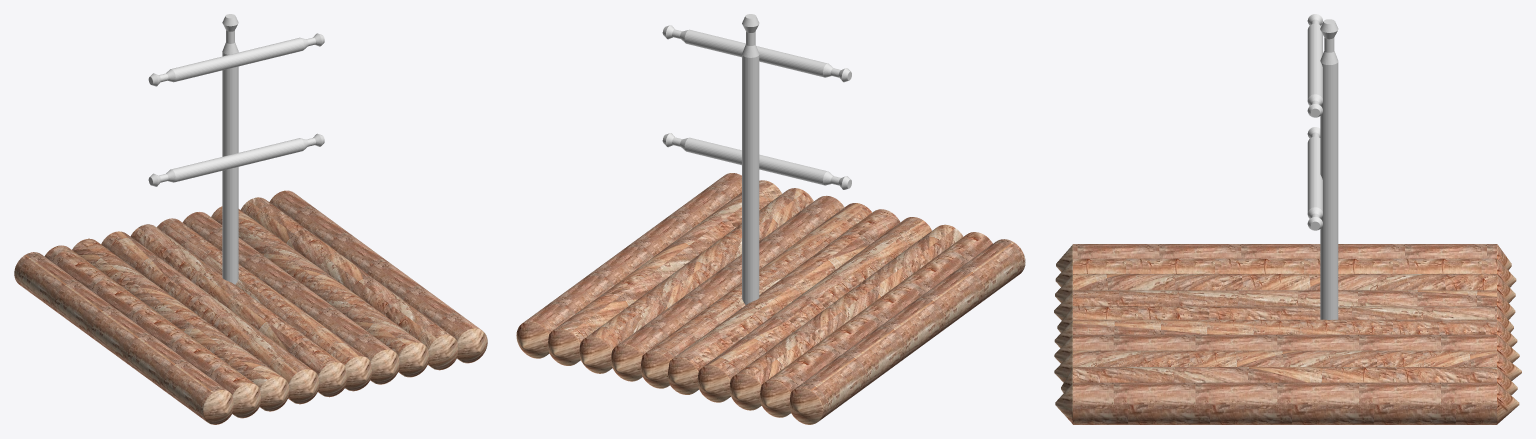
File: floatFinal.fbx
The picture shows the model from 3 angles, left to right: view 1: azimuth 30°, elevation 25°; view 2: azimuth 150°, elevation 25°; view 3: azimuth 270°, elevation 25°; orthographic projection. The views are drawn at different scales.
Parts seen in each view (by area): view 1: Cylinder.008, Cylinder.004, Cylinder.005, Cylinder.003, Cylinder.010, Cylinder.006, Cylinder.001, Cylinder.007, Cylinder, Cylinder.002, Cylinder.009, Cylinder.013 (+1 smaller); view 2: Cylinder.008, Cylinder.004, Cylinder.003, Cylinder.010, Cylinder.006, Cylinder.005, Cylinder.007, Cylinder.001, Cylinder, Cylinder.002, Cylinder.009, Cylinder.013 (+1 smaller); view 3: Cylinder.010, Cylinder.001, Cylinder, Cylinder.004, Cylinder.006, Cylinder.002, Cylinder.005, Cylinder.007, Cylinder.008, Cylinder.003, Cylinder.009, Cylinder.013 (+1 smaller).
Boxes of the visible parts, x1,y1,x2,y2 form: Cylinder.008: (14, 252, 233, 424); Cylinder.004: (101, 231, 318, 404); Cylinder.005: (241, 197, 457, 370); Cylinder.003: (130, 224, 346, 397); Cylinder.010: (269, 190, 487, 363); Cylinder.006: (72, 238, 289, 411); Cylinder.001: (211, 206, 428, 377); Cylinder.007: (44, 245, 260, 418); Cylinder: (182, 212, 399, 384); Cylinder.002: (157, 218, 371, 391); Cylinder.009: (222, 14, 238, 284); Cylinder.013: (148, 33, 324, 86); Cylinder.008: (789, 239, 1025, 424); Cylinder.004: (697, 217, 931, 402); Cylinder.003: (668, 209, 900, 394); Cylinder.010: (516, 173, 741, 358); Cylinder.006: (729, 224, 963, 410); Cylinder.005: (548, 180, 781, 365); Cylinder.007: (760, 232, 992, 417); Cylinder.001: (579, 188, 813, 373); Cylinder: (611, 195, 844, 381); Cylinder.002: (641, 203, 871, 388); Cylinder.009: (742, 14, 759, 304); Cylinder.013: (662, 25, 851, 82); Cylinder.010: (1055, 382, 1519, 424); Cylinder.001: (1054, 350, 1521, 382); Cylinder: (1054, 334, 1519, 363); Cylinder.004: (1054, 290, 1515, 320); Cylinder.006: (1055, 274, 1515, 302); Cylinder.002: (1054, 319, 1517, 347); Cylinder.005: (1061, 367, 1517, 395); Cylinder.007: (1055, 258, 1516, 287); Cylinder.008: (1056, 244, 1511, 272); Cylinder.003: (1057, 306, 1513, 332); Cylinder.009: (1320, 19, 1338, 319); Cylinder.013: (1307, 14, 1322, 117).
Size of the model in its own units: 649 by 640 by 819.
